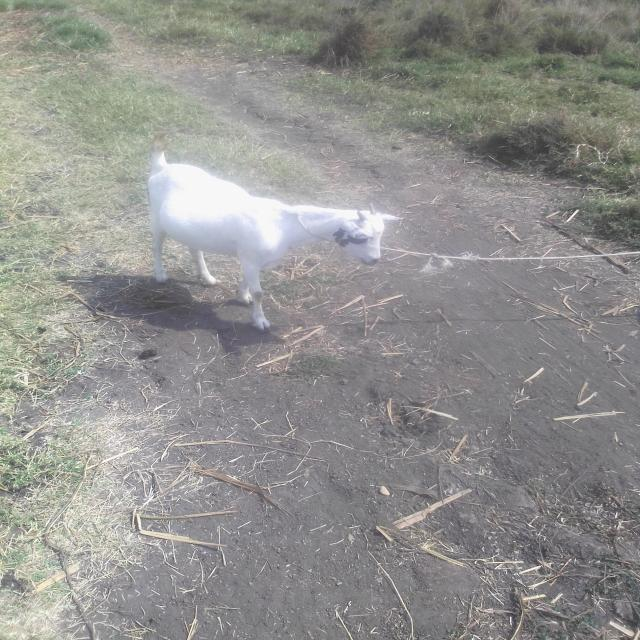goat: (83, 76, 498, 352)
